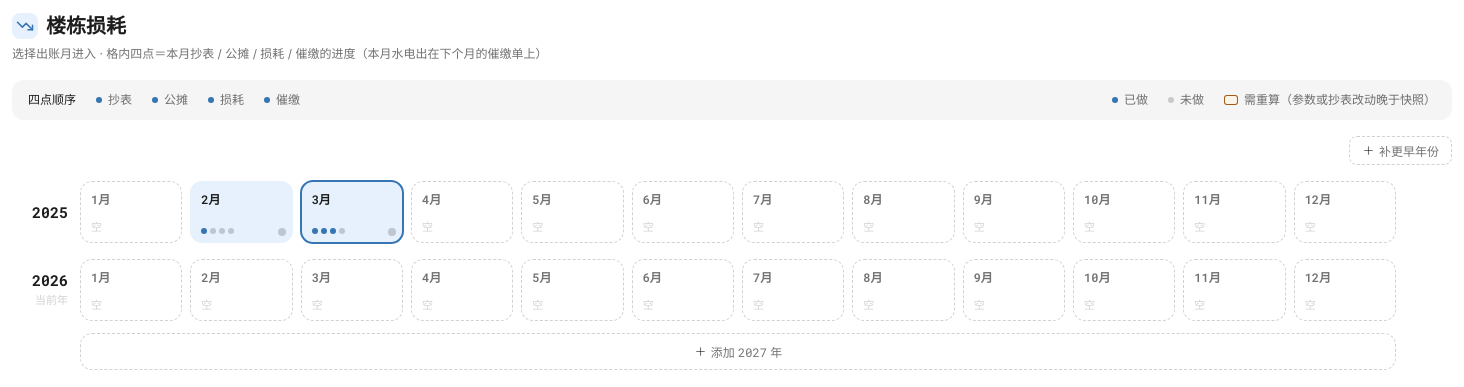
Test case: 出账链动线 · 楼栋损耗 › 「换出账月」回矩阵 —— 想换月随时点得到
What coordinates should you click on to do the following:
click the button with class "bmm-card" showing "3月"
I would click on:
 (352, 212)
Its box is [301, 181, 403, 243].
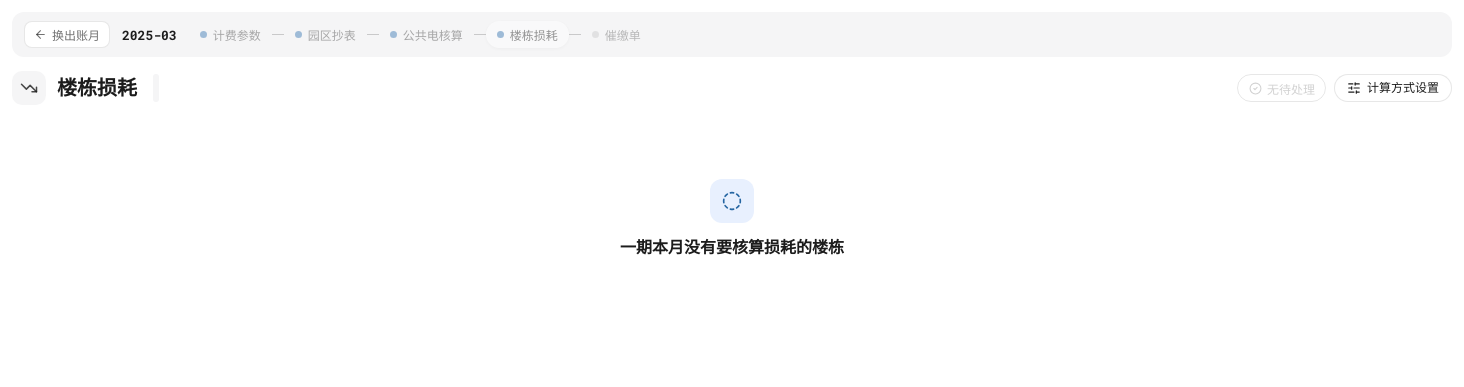
What coordinates should you click on to do the following:
click the button with class "fss-back"
I would click on:
 (67, 34)
Its box is [24, 21, 110, 48].
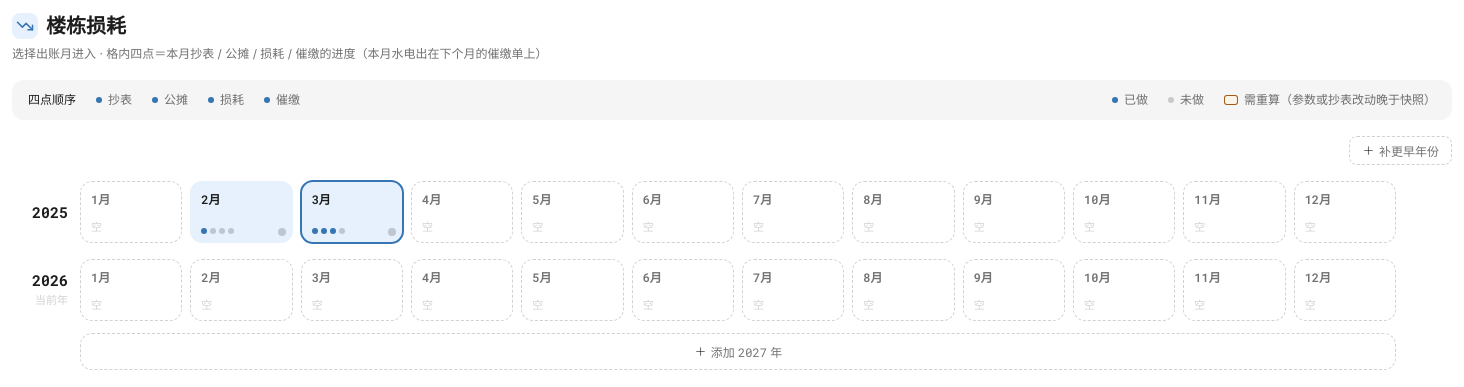
Now the element with class "cmg" is shown
